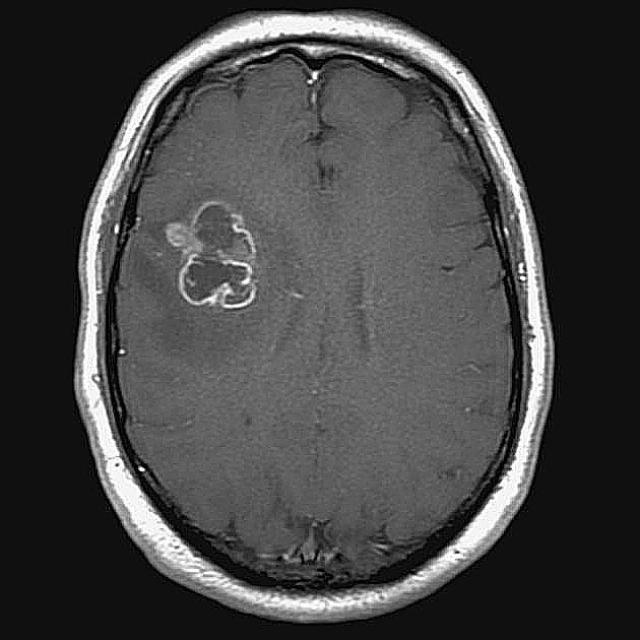Tumor-Cell: (147, 180, 275, 332)
